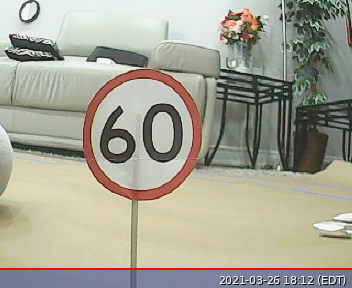Speed Limit 60: (82, 69, 201, 200)
